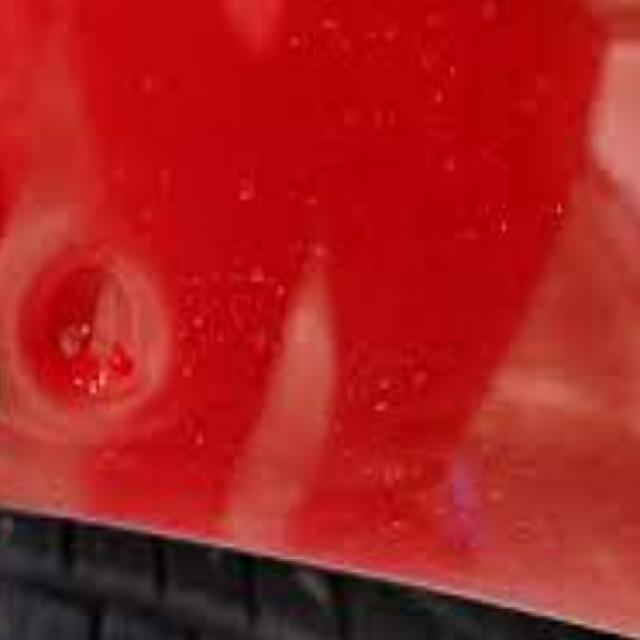dents: (18, 224, 178, 413)
